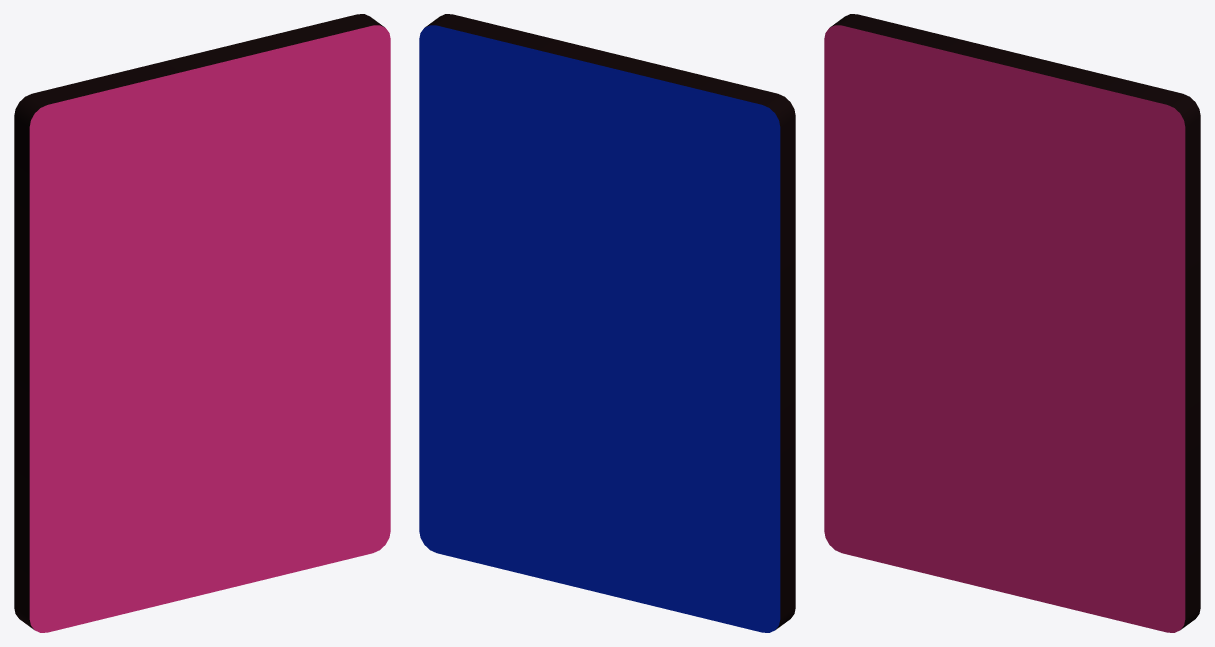
Rendered from card.gltf.
3 views of the same model, side by side, from view 1: azimuth 30°, elevation 25°; view 2: azimuth 150°, elevation 25°; view 3: azimuth 330°, elevation 25° (orthographic).
Parts seen in each view (by area): view 1: card; view 2: card; view 3: card.
Boxes of the visible parts, <box> form: card: <box>14,14,390,632</box>; card: <box>419,14,795,632</box>; card: <box>824,14,1200,632</box>.
Bounding box in the file's own units: 1.95 × 2.72 × 0.1436.
